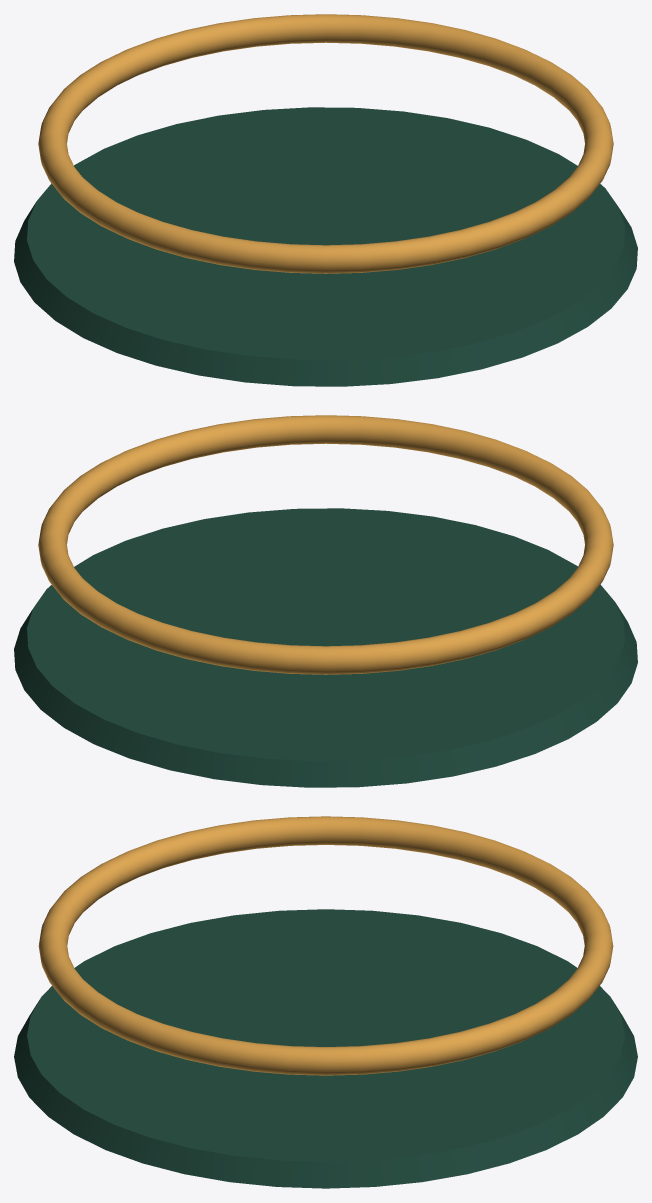
Rendered from cloud_chamber_rig.glb.
The picture shows the model from 3 angles, top to bottom: view 1: azimuth 30°, elevation 25°; view 2: azimuth 150°, elevation 25°; view 3: azimuth 270°, elevation 25°; orthographic projection.
Visible parts, largest first — view 1: Chamber_Base, Helmholtz_Coil_Top; view 2: Chamber_Base, Helmholtz_Coil_Top; view 3: Chamber_Base, Helmholtz_Coil_Top.
Part boxes in pixels (bbox=[...]): Chamber_Base: bbox=[14, 107, 637, 386]; Helmholtz_Coil_Top: bbox=[38, 14, 613, 273]; Chamber_Base: bbox=[14, 508, 637, 787]; Helmholtz_Coil_Top: bbox=[38, 415, 613, 674]; Chamber_Base: bbox=[14, 909, 637, 1188]; Helmholtz_Coil_Top: bbox=[38, 816, 613, 1075].
Size of the model in its own units: 4.8 by 1.05 by 4.8.
